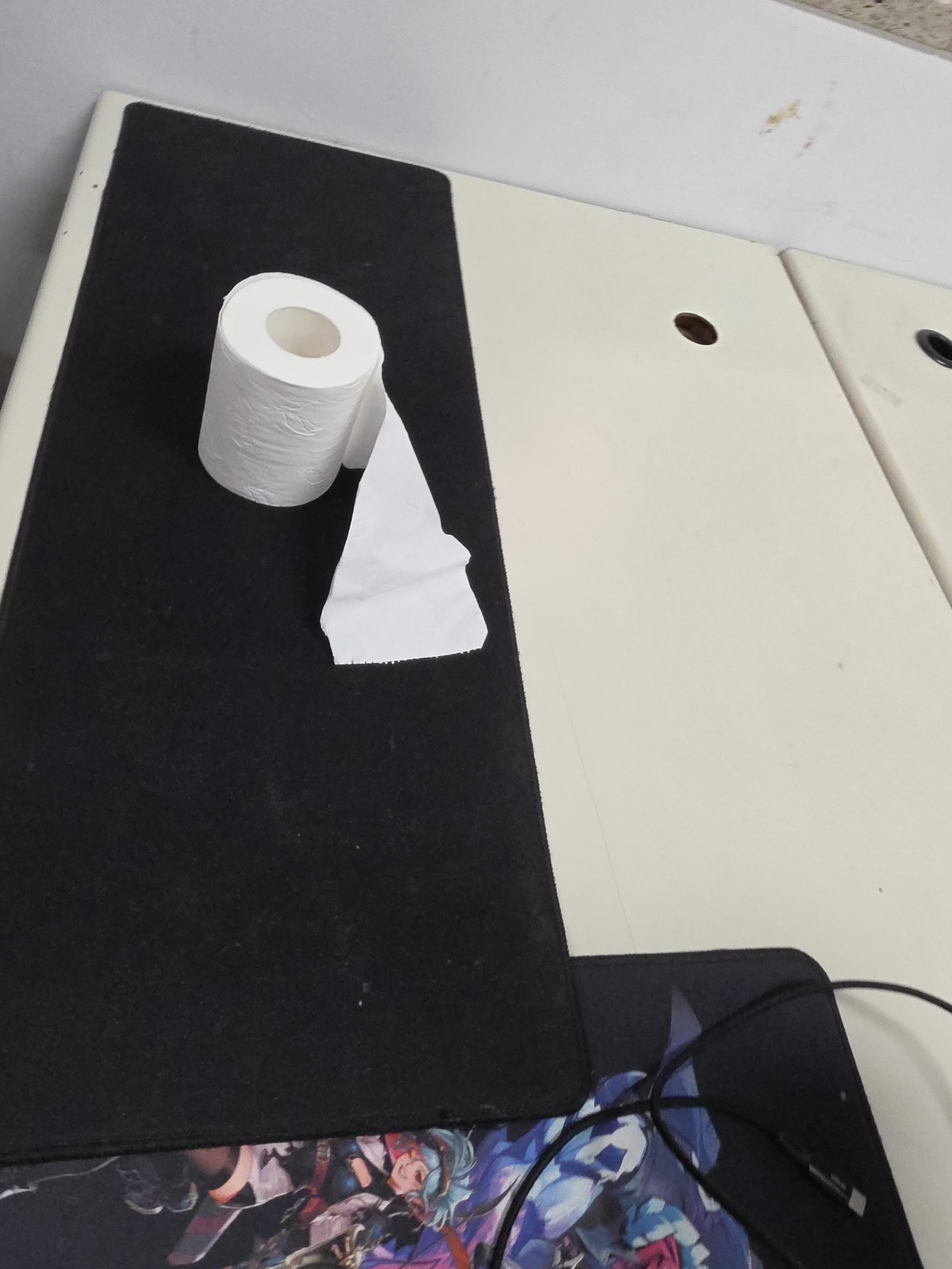tissue: (198, 271, 488, 666)
